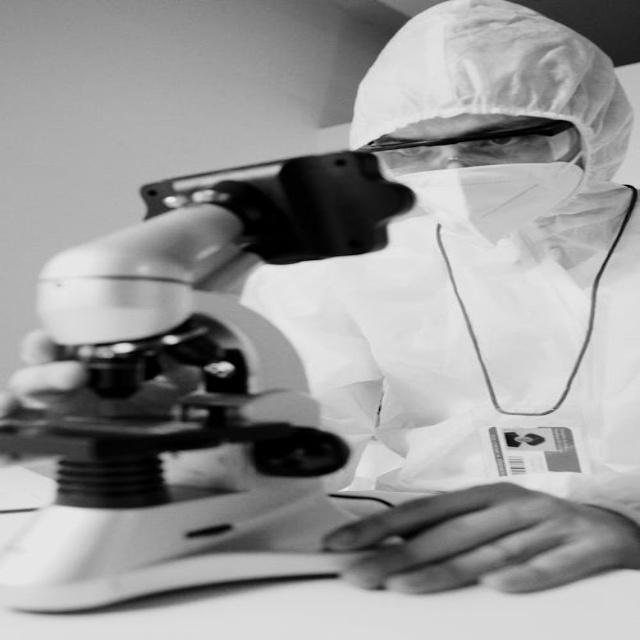Gafas: (370, 122, 580, 177)
Mascara: (391, 147, 593, 249)
Sin_guantes: (310, 480, 628, 595)
